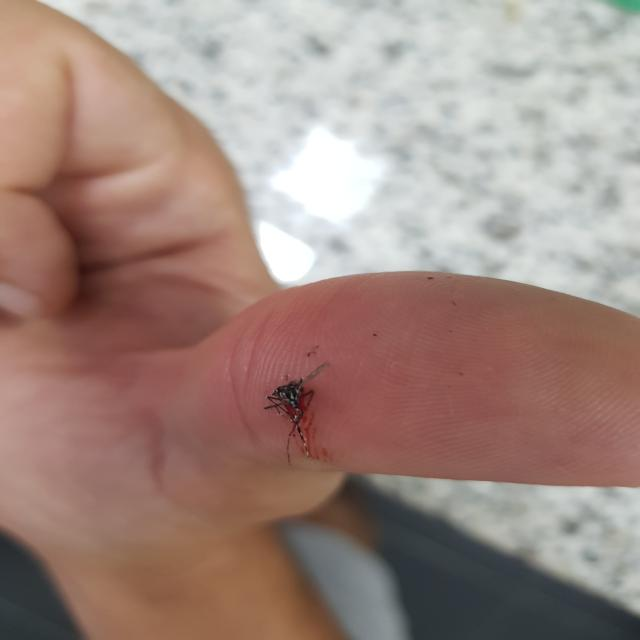albopictus: (251, 354, 337, 458)
